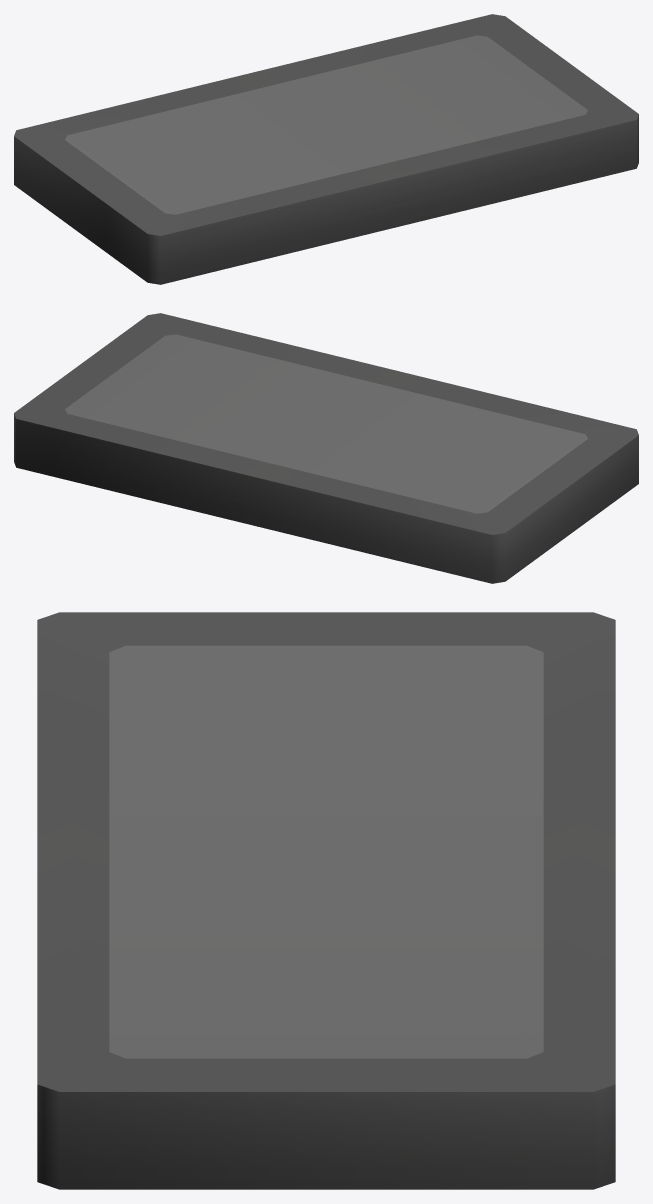
File: Grave_6.glb
The picture shows the model from 3 angles, top to bottom: view 1: azimuth 30°, elevation 25°; view 2: azimuth 150°, elevation 25°; view 3: azimuth 270°, elevation 25°; orthographic projection. The views are drawn at different scales.
Parts seen in each view (by area): view 1: Grave_6; view 2: Grave_6; view 3: Grave_6.
Boxes of the visible parts, box(x1,y1,x2,y2) form: Grave_6: box(14, 14, 638, 284); Grave_6: box(14, 313, 638, 583); Grave_6: box(37, 612, 615, 1189).
Bounding box in the file's own units: 1.69 × 0.1603 × 0.8601.
Materials: 1 (1 with a texture image).
